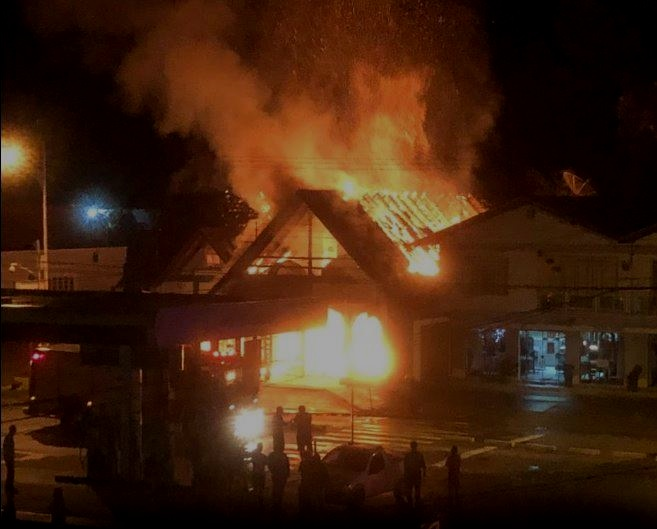fire: (271, 300, 414, 385)
